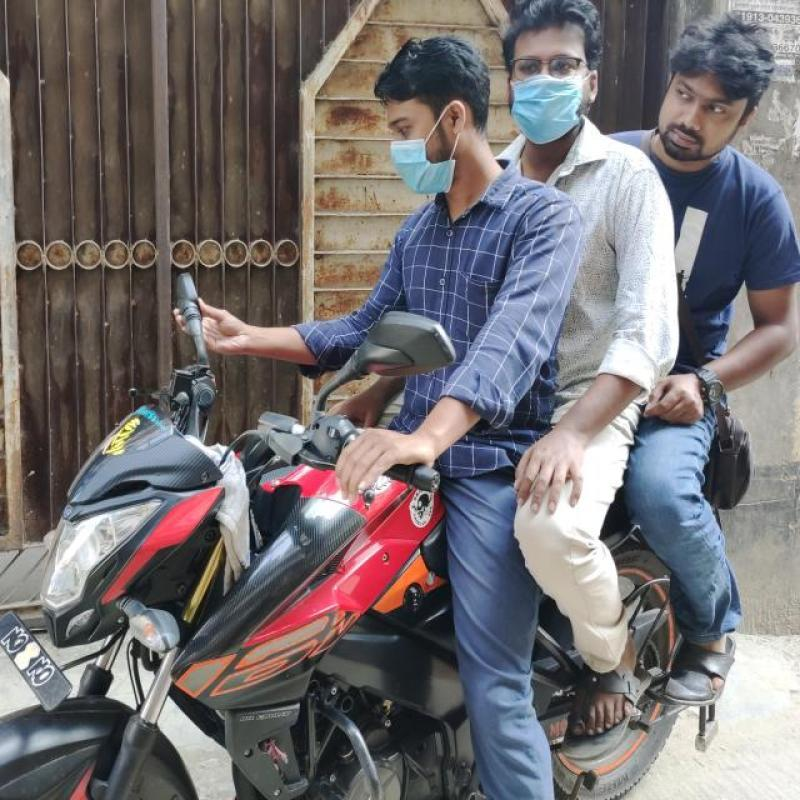nohelmet: (355, 34, 502, 204), (650, 10, 774, 178), (500, 0, 618, 160)
